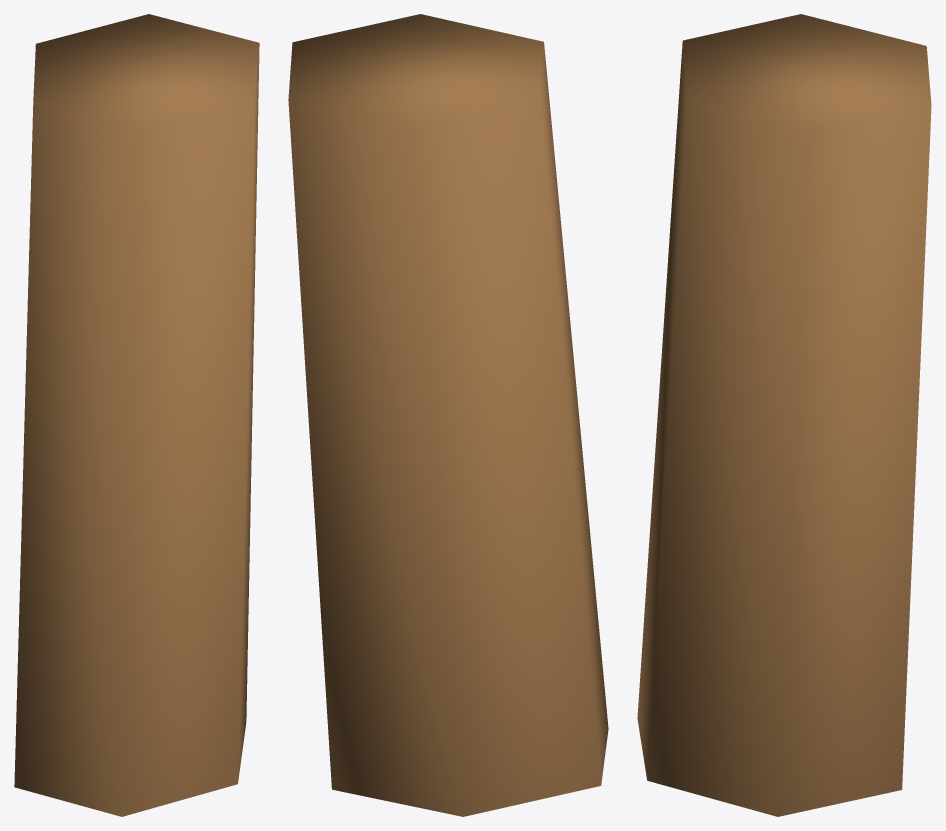
The model's file is IL3DN_Tree_Pine_01_stump.fbx.
3 views of the same model, side by side, from view 1: azimuth 30°, elevation 25°; view 2: azimuth 150°, elevation 25°; view 3: azimuth 270°, elevation 25° (orthographic). The views are drawn at different scales.
Visible parts, largest first — view 1: IL3DN_Tree_Pine_01_Branch_LOD0.001; view 2: IL3DN_Tree_Pine_01_Branch_LOD0.001; view 3: IL3DN_Tree_Pine_01_Branch_LOD0.001.
Boxes of the visible parts, x1,y1,x2,y2 form: IL3DN_Tree_Pine_01_Branch_LOD0.001: [14, 14, 259, 816]; IL3DN_Tree_Pine_01_Branch_LOD0.001: [288, 14, 608, 816]; IL3DN_Tree_Pine_01_Branch_LOD0.001: [637, 14, 931, 816].
Size of the model in its own units: 10.3 by 24.1 by 9.19.
